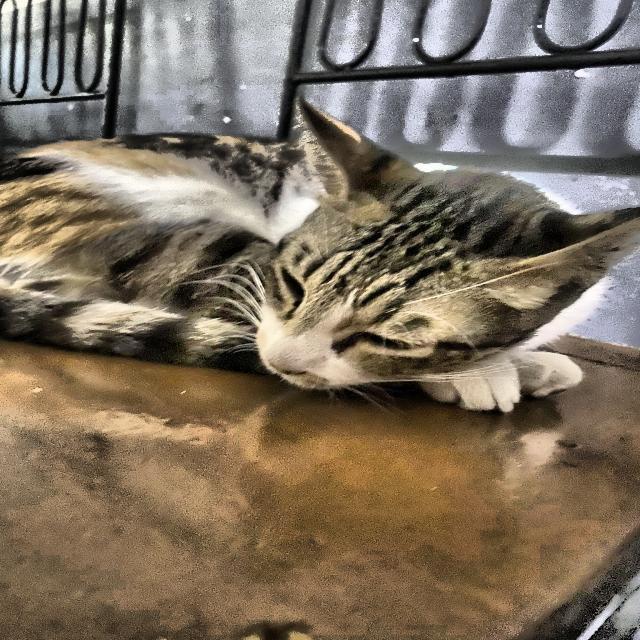Healthy skin: (125, 166, 379, 300)
